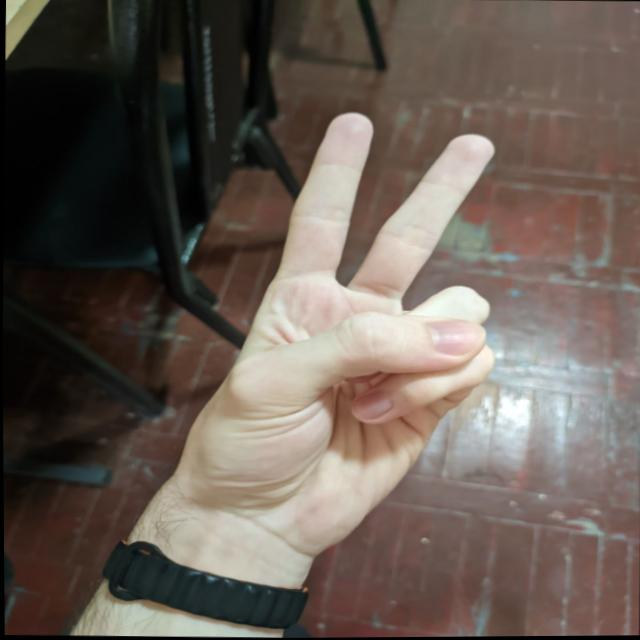k: (218, 85, 524, 537)
